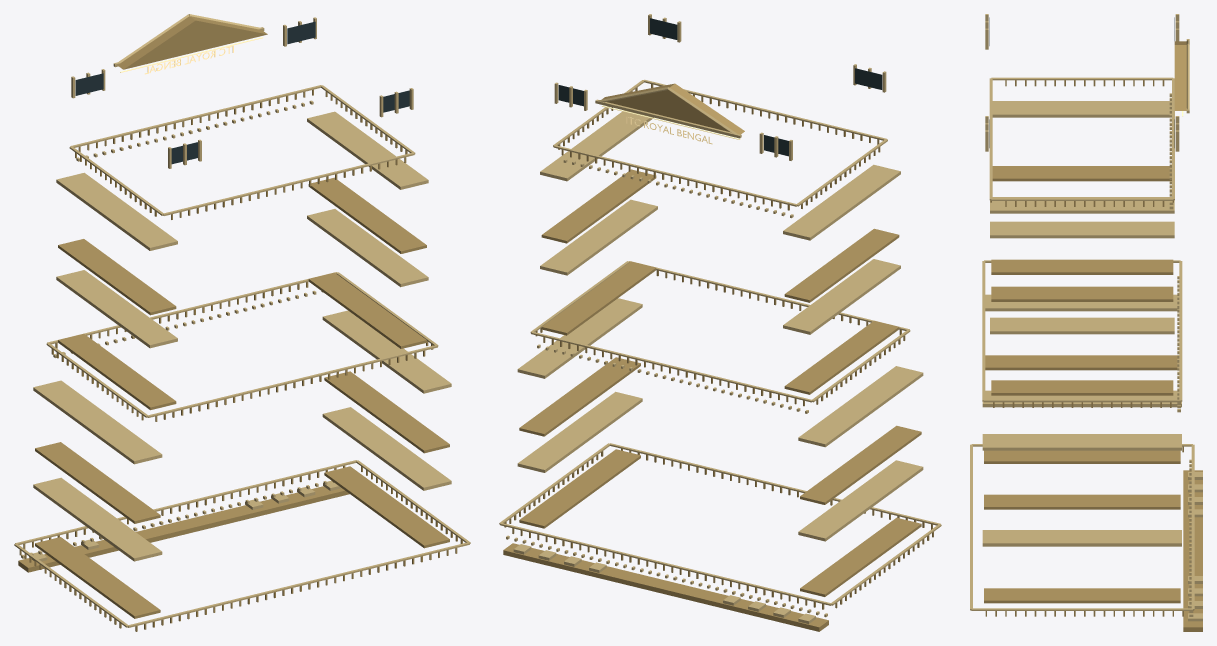
File: KOL_T1_ROYAL__05_Crown_Cornices.fbx
The picture shows the model from 3 angles, left to right: view 1: azimuth 30°, elevation 25°; view 2: azimuth 150°, elevation 25°; view 3: azimuth 270°, elevation 25°; orthographic projection. The views are drawn at different scales.
Visible parts, largest first — view 1: KOL_T1_ROYAL__05_Crown_Cornices__KOL_T1_RoyalTrim, KOL_T1_ROYAL__05_Crown_Cornices__KOL_T1_RoyalOchre, KOL_T1_ROYAL__05_Crown_Cornices__KOL_T1_Graphite; view 2: KOL_T1_ROYAL__05_Crown_Cornices__KOL_T1_RoyalTrim, KOL_T1_ROYAL__05_Crown_Cornices__KOL_T1_RoyalOchre, KOL_T1_ROYAL__05_Crown_Cornices__KOL_T1_Graphite; view 3: KOL_T1_ROYAL__05_Crown_Cornices__KOL_T1_RoyalTrim, KOL_T1_ROYAL__05_Crown_Cornices__KOL_T1_RoyalOchre.
Part boxes in pixels (x1,y1,x2,y2): KOL_T1_ROYAL__05_Crown_Cornices__KOL_T1_RoyalTrim: [14, 14, 470, 627]; KOL_T1_ROYAL__05_Crown_Cornices__KOL_T1_RoyalOchre: [18, 16, 462, 631]; KOL_T1_ROYAL__05_Crown_Cornices__KOL_T1_Graphite: [75, 21, 409, 164]; KOL_T1_ROYAL__05_Crown_Cornices__KOL_T1_RoyalTrim: [499, 14, 941, 623]; KOL_T1_ROYAL__05_Crown_Cornices__KOL_T1_RoyalOchre: [503, 83, 933, 631]; KOL_T1_ROYAL__05_Crown_Cornices__KOL_T1_Graphite: [558, 18, 882, 156]; KOL_T1_ROYAL__05_Crown_Cornices__KOL_T1_RoyalTrim: [970, 14, 1202, 621]; KOL_T1_ROYAL__05_Crown_Cornices__KOL_T1_RoyalOchre: [971, 41, 1202, 631].
Bounding box in the file's own units: 159 × 229 × 94.6.
